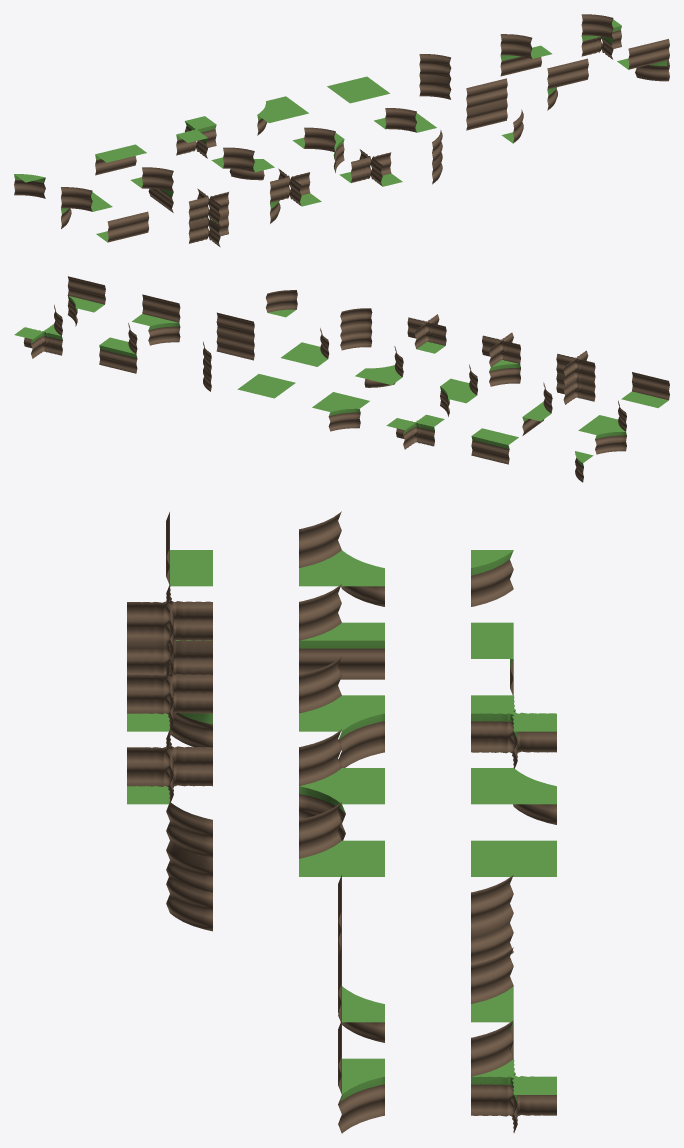
File: Cliff.glb
3 renders of one model, top to bottom at view 1: azimuth 30°, elevation 25°; view 2: azimuth 150°, elevation 25°; view 3: azimuth 270°, elevation 25°, orthographic. The views are drawn at different scales.
Parts seen in each view (by area): view 1: 01010101, 00110011, 00111011, 00010101, 00010011, 01010111, 00010001, 00011011, 01011111, 00000101, 00011001, 00110111 (+9 smaller); view 2: 01010101, 00110111, 01010111, 00110011, 00010111, 00000111, 01110111, 00111011, 00010011, 00010101, 00000011, 00111111 (+9 smaller); view 3: 01010101, 00011001, 01010111, 00011011, 00010101, 00011101, 00010111, 01011111, 00011111, 00000101, 01110111, 00000111 (+9 smaller).
Part boxes in pixels (left/top/right/bottom): 01010101: left=188, top=188, right=229, bottom=247; 00110011: left=466, top=78, right=507, bottom=130; 00111011: left=617, top=39, right=669, bottom=81; 00010101: left=581, top=14, right=621, bottom=59; 00010011: left=500, top=34, right=551, bottom=76; 01010111: left=270, top=168, right=321, bottom=223; 00010001: left=419, top=54, right=451, bottom=99; 00011011: left=211, top=147, right=274, bottom=180; 01011111: left=339, top=149, right=402, bottom=186; 00000101: left=176, top=116, right=216, bottom=158; 00011001: left=130, top=167, right=173, bottom=212; 00110111: left=547, top=58, right=588, bottom=110; 01010101: left=556, top=350, right=595, bottom=404; 00110111: left=132, top=294, right=180, bottom=345; 01010111: left=482, top=332, right=520, bottom=386; 00110011: left=216, top=312, right=254, bottom=360; 00010111: left=578, top=400, right=626, bottom=454; 00000111: left=312, top=392, right=369, bottom=431; 01110111: left=340, top=308, right=372, bottom=350; 00111011: left=67, top=276, right=105, bottom=326; 00010011: left=99, top=323, right=137, bottom=373; 00010101: left=14, top=304, right=62, bottom=358; 00000011: left=471, top=428, right=518, bottom=464; 00111111: left=621, top=372, right=669, bottom=407; 01010101: left=127, top=584, right=212, bottom=675; 00011001: left=299, top=584, right=384, bottom=679; 01010111: left=127, top=657, right=212, bottom=747; 00011011: left=299, top=656, right=384, bottom=767; 00010101: left=471, top=1020, right=556, bottom=1132; 00011101: left=299, top=729, right=384, bottom=840; 00010111: left=299, top=511, right=384, bottom=606; 01011111: left=127, top=729, right=212, bottom=804; 00011111: left=299, top=802, right=384, bottom=876; 00000101: left=471, top=695, right=556, bottom=768; 01110111: left=166, top=802, right=212, bottom=892; 00000111: left=471, top=768, right=556, bottom=824.
Size of the model in its own units: 15 by 1 by 5.
